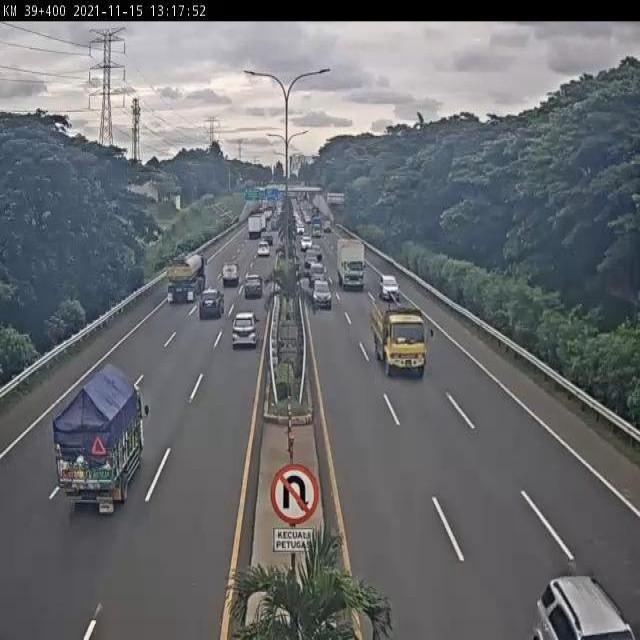car: (232, 312, 260, 348), (199, 288, 225, 321), (313, 279, 333, 308), (380, 272, 399, 299), (243, 274, 264, 298), (222, 262, 240, 286)
truck-m-: (55, 360, 147, 507), (368, 297, 434, 380), (336, 236, 368, 291)
truck-xl-: (166, 252, 209, 304)
